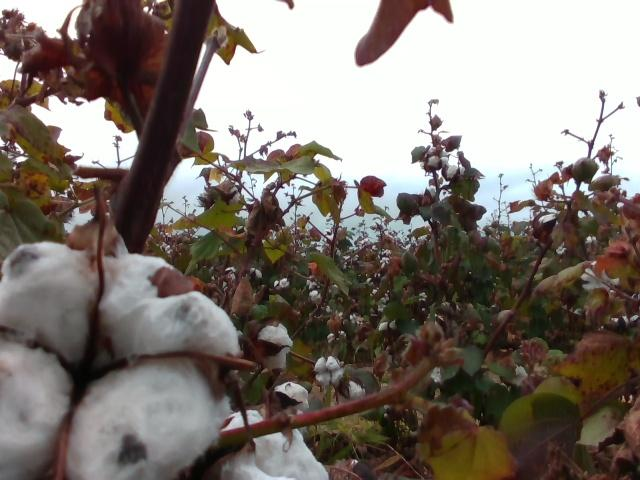cotton_ready: (0, 241, 242, 480), (220, 410, 329, 480), (258, 325, 292, 374), (275, 382, 308, 415), (315, 357, 347, 385)
